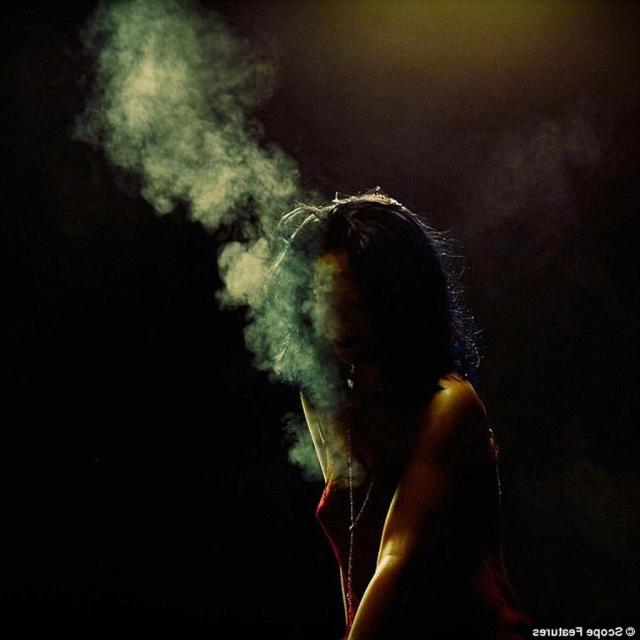smoking: (177, 0, 456, 405)
